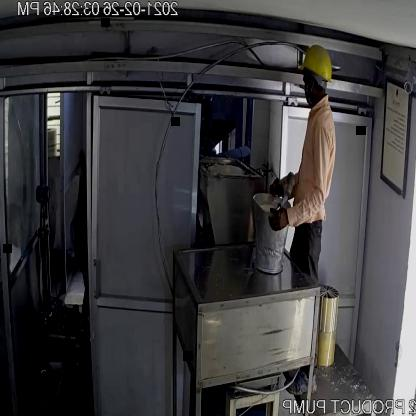helmet: (298, 43, 333, 83)
